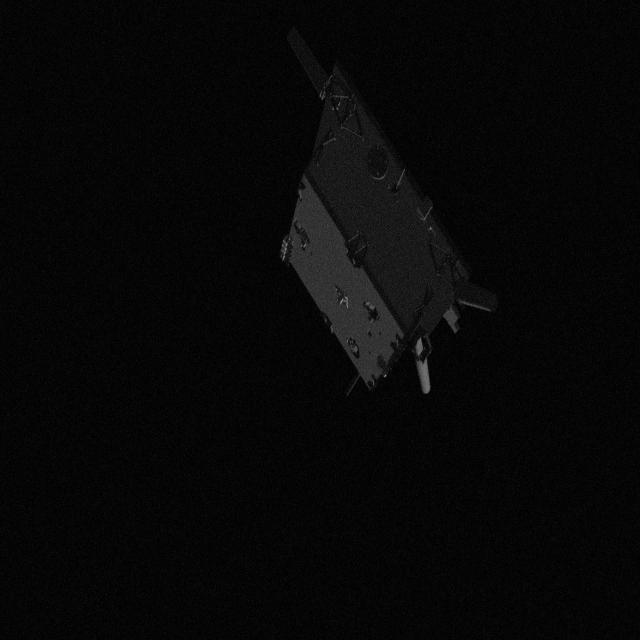medium_debris: (266, 18, 508, 404)
